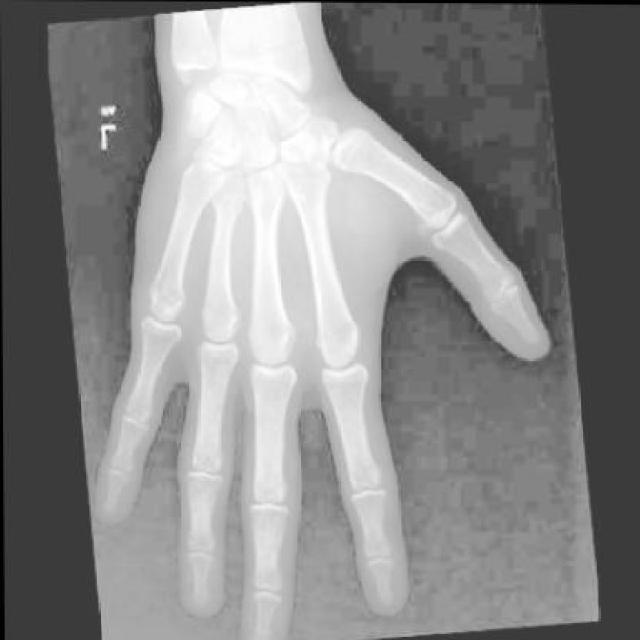Fracture: (182, 91, 219, 128)
